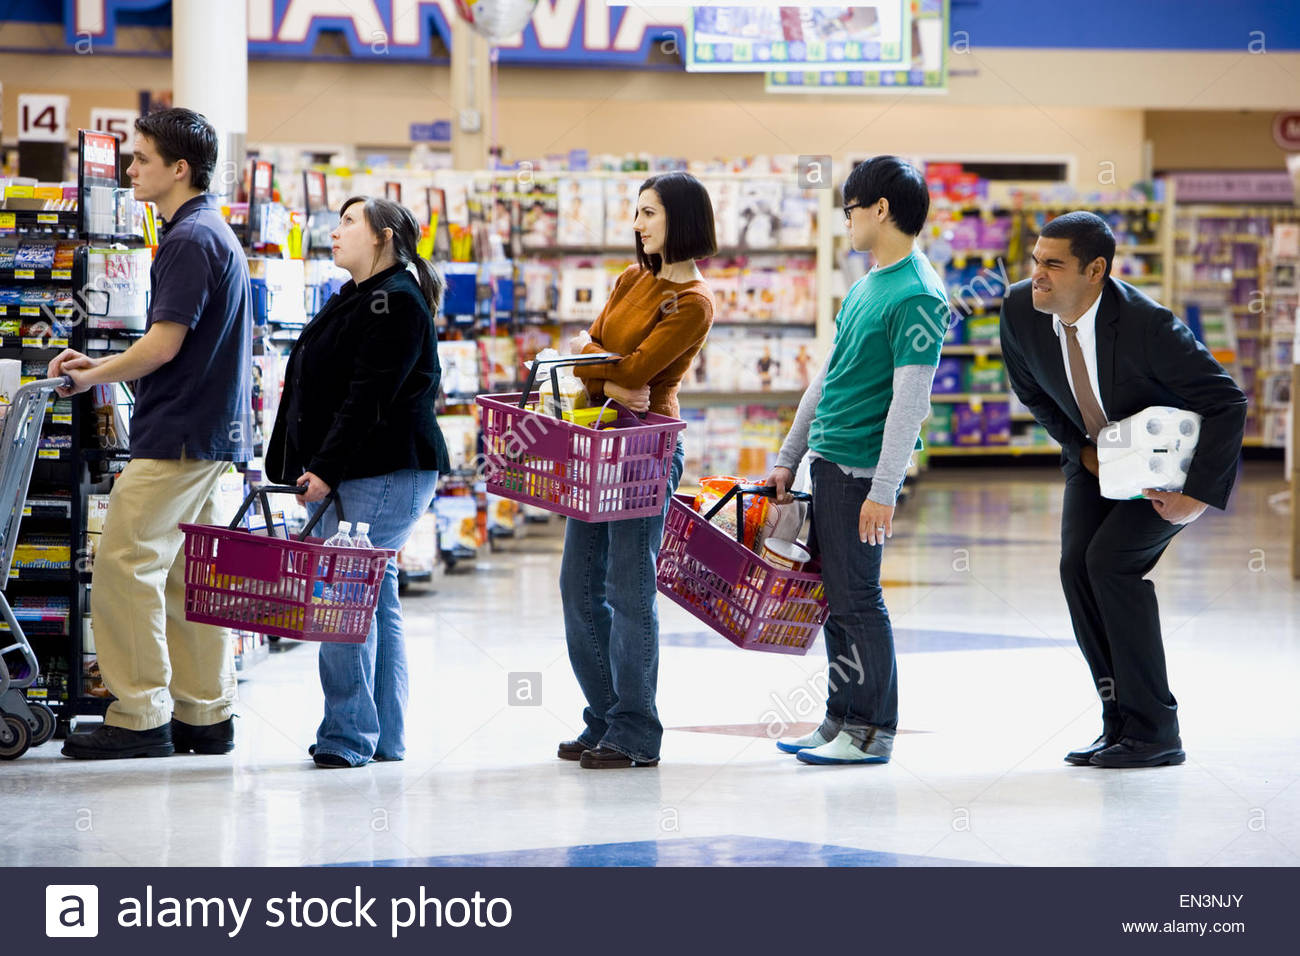Age_20_30: (836, 168, 931, 257), (123, 113, 208, 206), (629, 182, 716, 267), (324, 193, 410, 272)
Age_30_40: (1026, 213, 1113, 316)
E_Asian: (836, 168, 931, 257)
E_Hispanic: (1026, 213, 1113, 316)
E_White: (123, 113, 208, 206), (629, 182, 716, 267), (324, 193, 410, 272)
Emotion_Angry: (1026, 213, 1113, 316)
Emotion_Happy: (629, 182, 716, 267)
Emotion_Neutral: (836, 168, 931, 257), (324, 193, 410, 272)
Emotion_Sad: (123, 113, 208, 206)
G_ Female: (629, 182, 716, 267), (324, 193, 410, 272)
G_Male: (1026, 213, 1113, 316), (836, 168, 931, 257), (123, 113, 208, 206)
